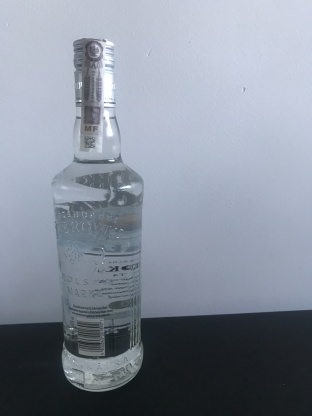nakretka: (70, 34, 119, 110)
